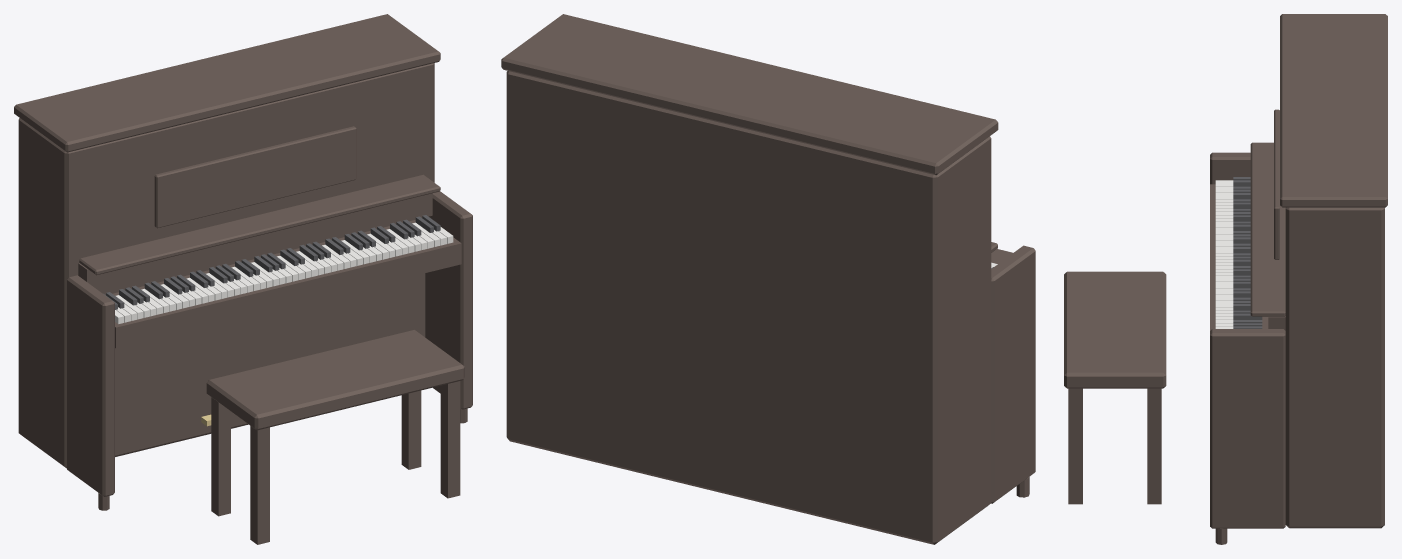
File: piano.glb
The picture shows the model from 3 angles, left to right: view 1: azimuth 30°, elevation 25°; view 2: azimuth 150°, elevation 25°; view 3: azimuth 270°, elevation 25°; orthographic projection. The views are drawn at different scales.
Visible parts, largest first — view 1: piano_piano, piano_keys, piano_dark; view 2: piano_piano; view 3: piano_piano, piano_dark, piano_keys.
Boxes of the visible parts, x1,y1,x2,y2 form: piano_piano: (14,14,472,544); piano_keys: (115,222,453,323); piano_dark: (103,215,440,309); piano_piano: (501,14,1035,544); piano_piano: (1064,14,1387,544); piano_dark: (1233,177,1262,328); piano_keys: (1215,180,1233,328).
Bounding box in the file's own units: 1.5 × 1.32 × 1.11.
